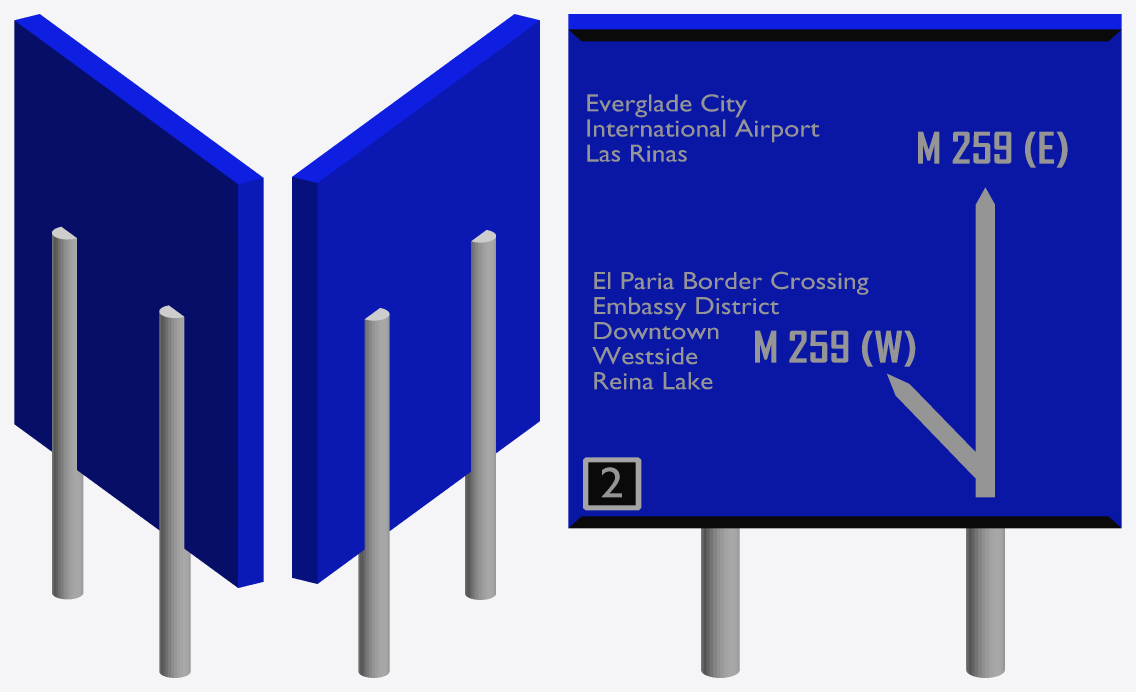
File: UK_motorway_sign_5.fbx
3 views of the same model, side by side, from view 1: azimuth 30°, elevation 25°; view 2: azimuth 150°, elevation 25°; view 3: azimuth 270°, elevation 25° (orthographic). The views are drawn at different scales.
Parts seen in each view (by area): view 1: Cube.001, Cylinder, Cylinder.001; view 2: Cube.001, Cylinder.001, Cylinder; view 3: Cube.001, Plane, Cylinder.001, Cylinder, Text.004, Text.002, Plane.002, Text.001, Text.003, Plane.001.
Part boxes in pixels (left/top/right/bottom): Cube.001: left=14, top=14, right=263, bottom=587; Cylinder: left=159, top=305, right=190, bottom=677; Cylinder.001: left=52, top=226, right=83, bottom=599; Cube.001: left=292, top=14, right=539, bottom=583; Cylinder.001: left=358, top=308, right=389, bottom=677; Cylinder: left=465, top=230, right=495, bottom=599; Cube.001: left=568, top=14, right=1121, bottom=528; Plane: left=975, top=187, right=994, bottom=497; Cylinder.001: left=966, top=528, right=1004, bottom=677; Cylinder: left=701, top=528, right=739, bottom=677; Text.004: left=592, top=271, right=868, bottom=389; Text.002: left=587, top=94, right=819, bottom=161; Plane.002: left=583, top=457, right=641, bottom=510; Text.001: left=755, top=330, right=915, bottom=366; Text.003: left=918, top=131, right=1067, bottom=167; Plane.001: left=887, top=373, right=975, bottom=477.
Size of the model in its own units: 6.09 by 74.37 by 56.78.
